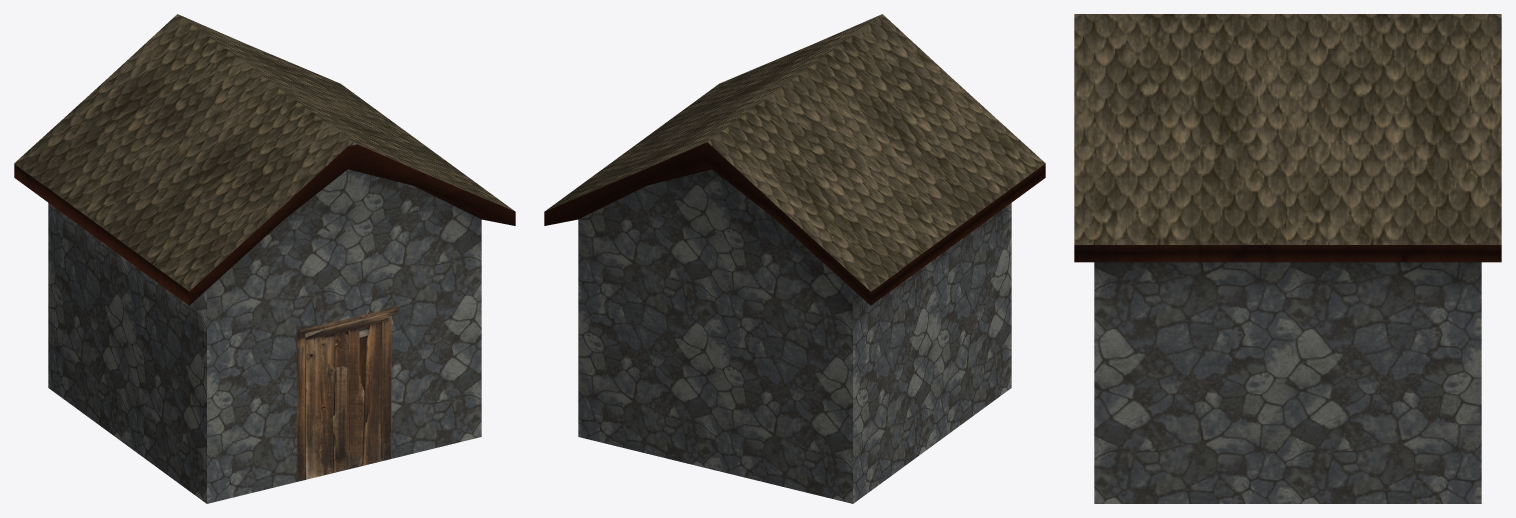
File: house_gen.fbx
3 views of the same model, side by side, from view 1: azimuth 30°, elevation 25°; view 2: azimuth 150°, elevation 25°; view 3: azimuth 270°, elevation 25° (orthographic). The views are drawn at different scales.
Visible parts, largest first — view 1: pCube4; view 2: pCube4; view 3: pCube4.
Part boxes in pixels (box(x1,y1,x2,y2)): pCube4: box(14, 14, 515, 503); pCube4: box(544, 14, 1045, 503); pCube4: box(1074, 14, 1501, 503).
Size of the model in its own units: 535 by 523 by 496.
Materials: 1 (1 with a texture image).
